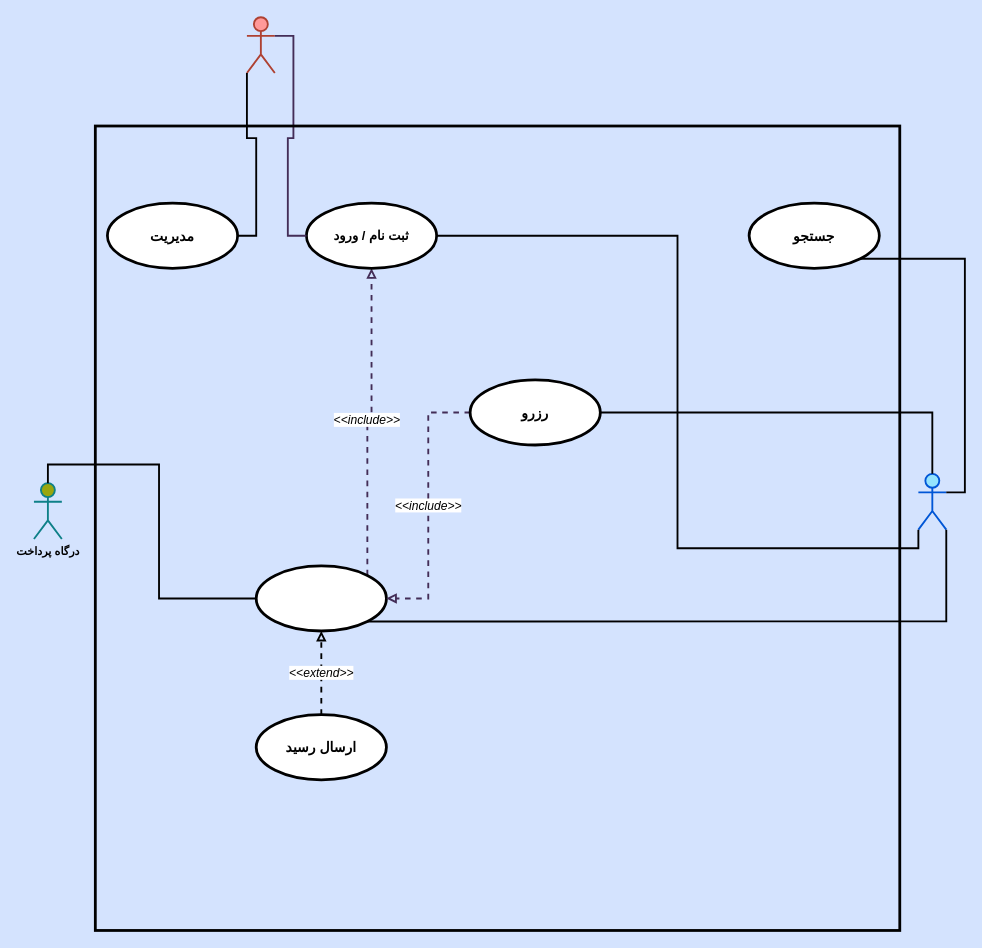
Image size: 982x948. Some labels were removed from this diagram. Each missing label, with the box of its shape:
مدیر: (246, 16, 275, 73)
پرداخت: (254, 564, 387, 632)
کاربر: (917, 472, 947, 530)
